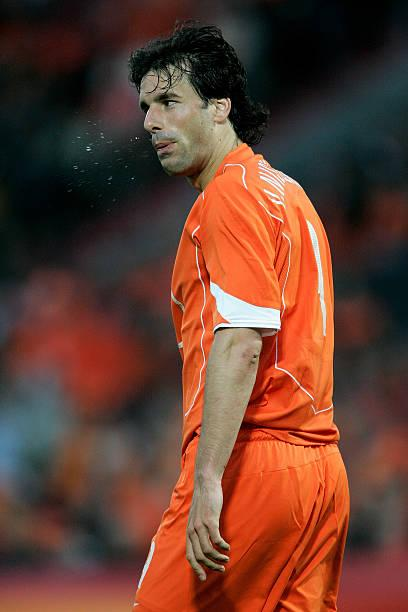Spitting: (85, 15, 307, 219)
